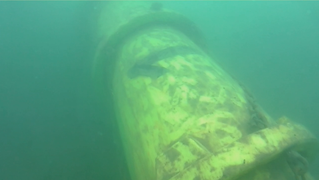1: (128, 44, 204, 78)
pipe: (88, 1, 318, 179)
